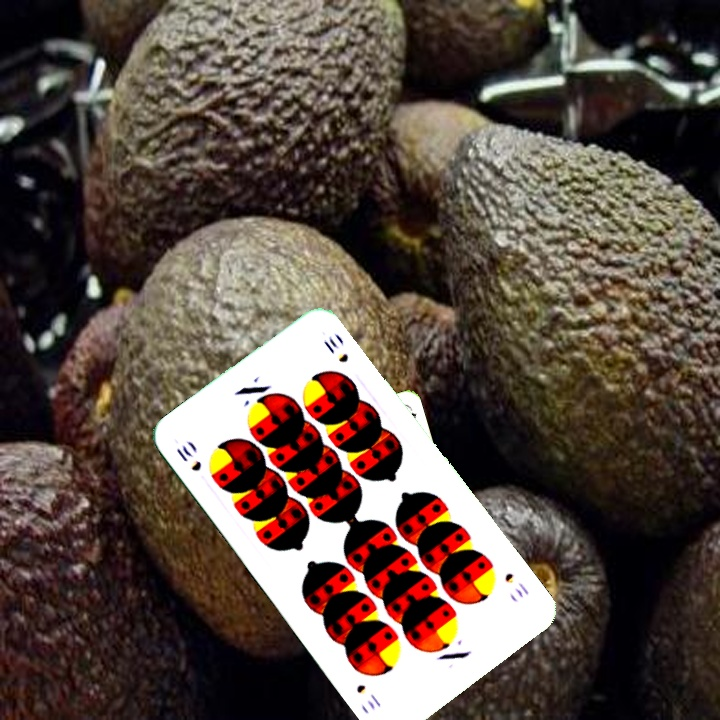S10: (172, 441, 204, 474), (500, 569, 532, 601)
